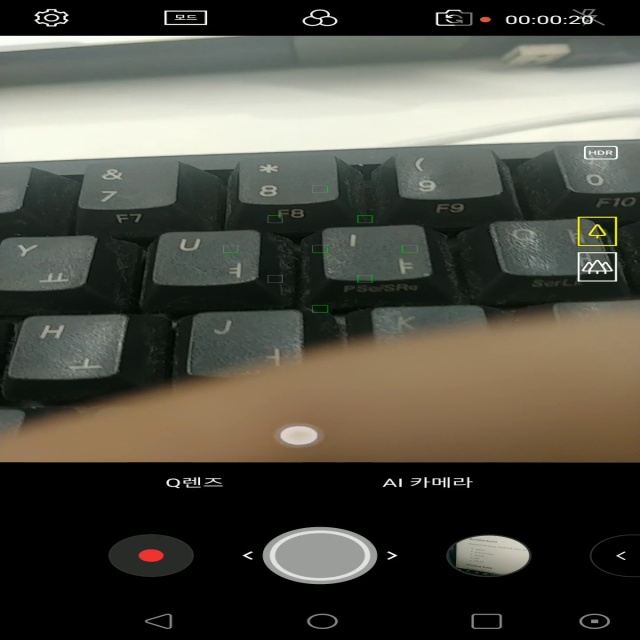Cursor: (277, 425, 321, 447)
